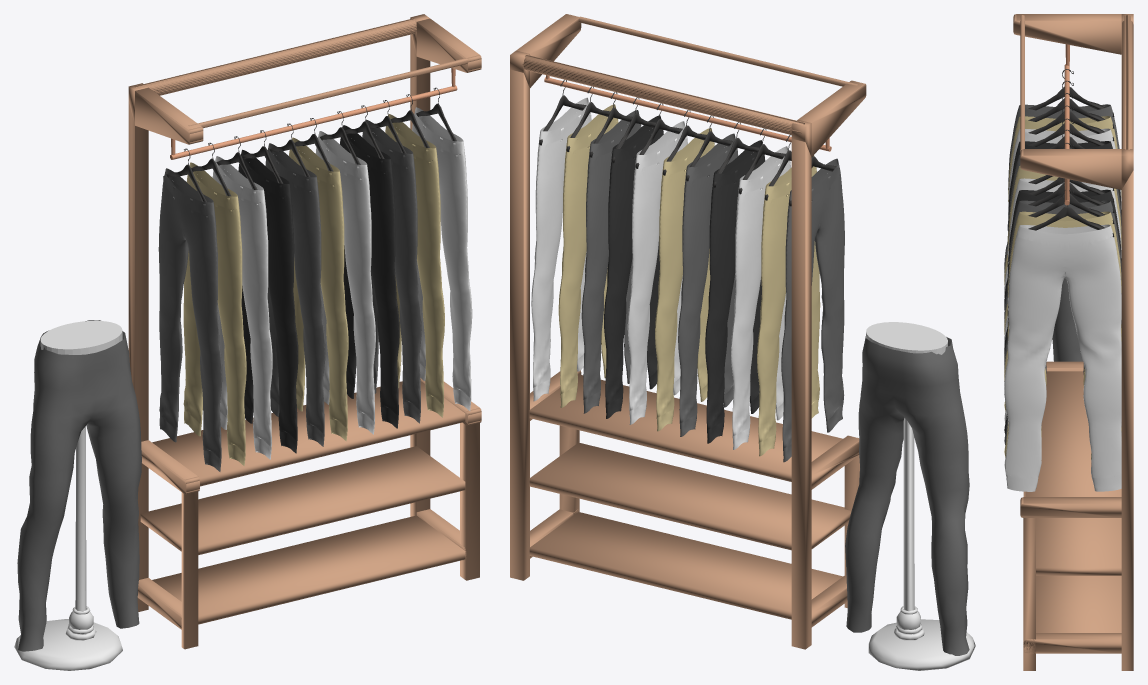
File: Office Wear_Trousers.fbx
3 renders of one model, left to right at view 1: azimuth 30°, elevation 25°; view 2: azimuth 150°, elevation 25°; view 3: azimuth 270°, elevation 25°, orthographic.
Parts seen in each view (by area): view 1: Pattern2D_5081.008, Trouser_Mannequin, pant.002, pant.003, pant.006, pant.005, pant.009, pant.004, pant.008, pant.011, pant.007, pant.001 (+1 smaller); view 2: Pattern2D_5081.008, Trouser_Mannequin, pant.002, pant.006, pant.005, pant.003, pant.009, pant.004, pant.007, pant.008, pant.011, pant.001 (+1 smaller); view 3: Pattern2D_5081.008, pant.011, pant.010, Trouser_Mannequin, pant.001, pant.003, pant.004, pant.009, pant.002, pant.008, pant.005, pant.007 (+10 smaller).
Part boxes in pixels (x1=…): Pattern2D_5081.008: x1=128, y1=14, x2=481, y2=649; Trouser_Mannequin: x1=14, y1=320, x2=141, y2=670; pant.002: x1=158, y1=168, x2=222, y2=471; pant.003: x1=183, y1=162, x2=246, y2=465; pant.006: x1=265, y1=143, x2=325, y2=446; pant.005: x1=238, y1=149, x2=298, y2=453; pant.009: x1=340, y1=125, x2=399, y2=428; pant.004: x1=212, y1=156, x2=272, y2=459; pant.008: x1=315, y1=131, x2=375, y2=434; pant.011: x1=412, y1=107, x2=472, y2=410; pant.007: x1=289, y1=137, x2=348, y2=441; pant.001: x1=362, y1=119, x2=421, y2=423; Pattern2D_5081.008: x1=510, y1=14, x2=866, y2=649; Trouser_Mannequin: x1=845, y1=322, x2=975, y2=670; pant.002: x1=781, y1=158, x2=844, y2=462; pant.006: x1=678, y1=133, x2=738, y2=436; pant.005: x1=705, y1=140, x2=765, y2=443; pant.003: x1=757, y1=155, x2=820, y2=456; pant.009: x1=604, y1=115, x2=663, y2=418; pant.004: x1=731, y1=146, x2=790, y2=449; pant.007: x1=655, y1=128, x2=714, y2=431; pant.008: x1=627, y1=121, x2=687, y2=424; pant.011: x1=531, y1=97, x2=591, y2=401; pant.001: x1=581, y1=110, x2=641, y2=413; Pattern2D_5081.008: x1=1013, y1=14, x2=1133, y2=670; pant.011: x1=1004, y1=224, x2=1121, y2=491; pant.010: x1=1004, y1=211, x2=1121, y2=460; Trouser_Mannequin: x1=1052, y1=272, x2=1082, y2=361; pant.001: x1=1004, y1=200, x2=1121, y2=444; pant.003: x1=1004, y1=116, x2=1121, y2=284; pant.004: x1=1004, y1=128, x2=1121, y2=297; pant.009: x1=1004, y1=189, x2=1121, y2=434; pant.002: x1=1004, y1=104, x2=1119, y2=273; pant.008: x1=1004, y1=178, x2=1121, y2=422; pant.005: x1=1004, y1=141, x2=1121, y2=381; pant.007: x1=1004, y1=166, x2=1121, y2=411.
Bounding box in the file's own units: 333 × 386 × 87.7.
